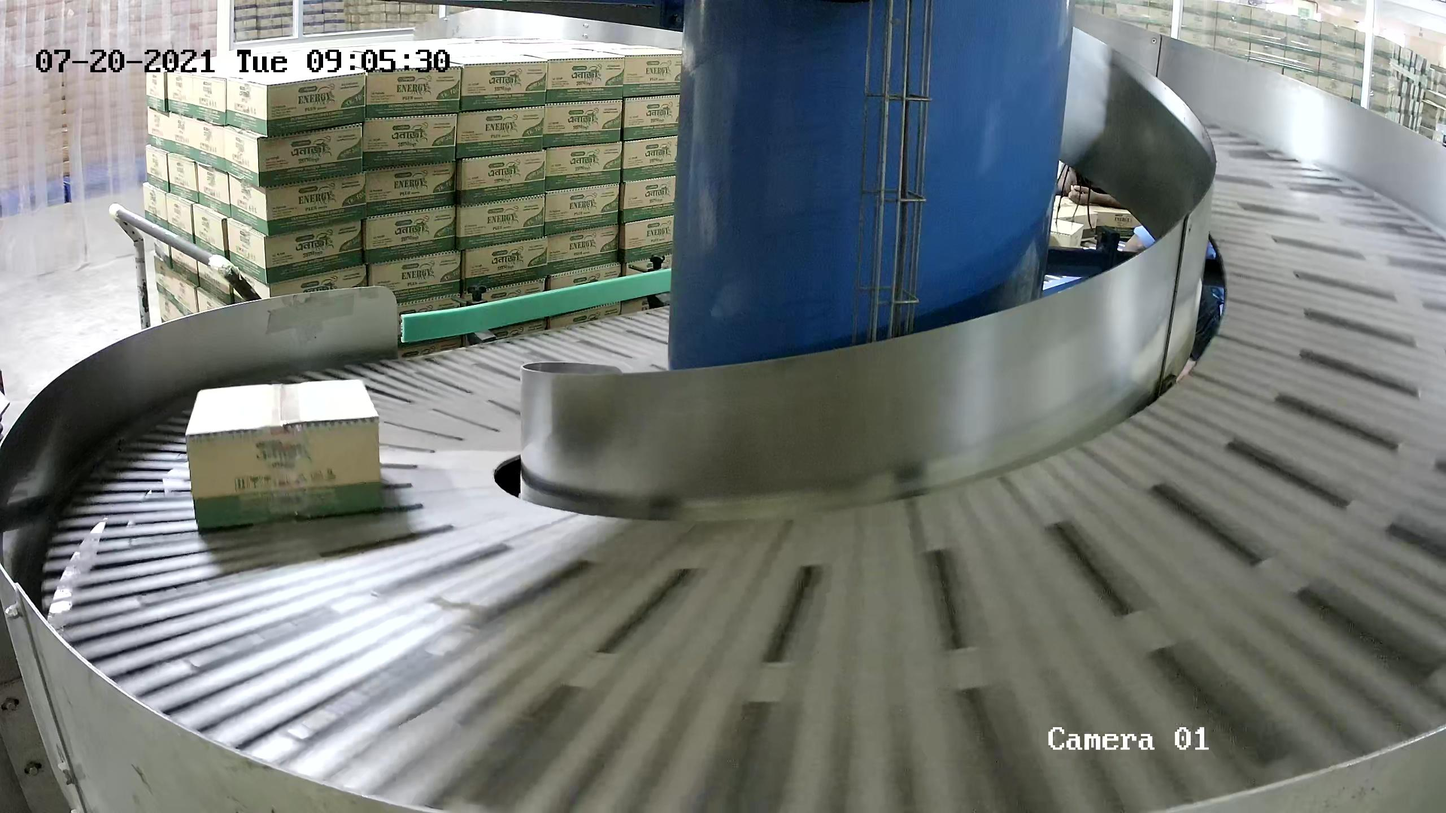Box: (183, 376, 386, 533)
